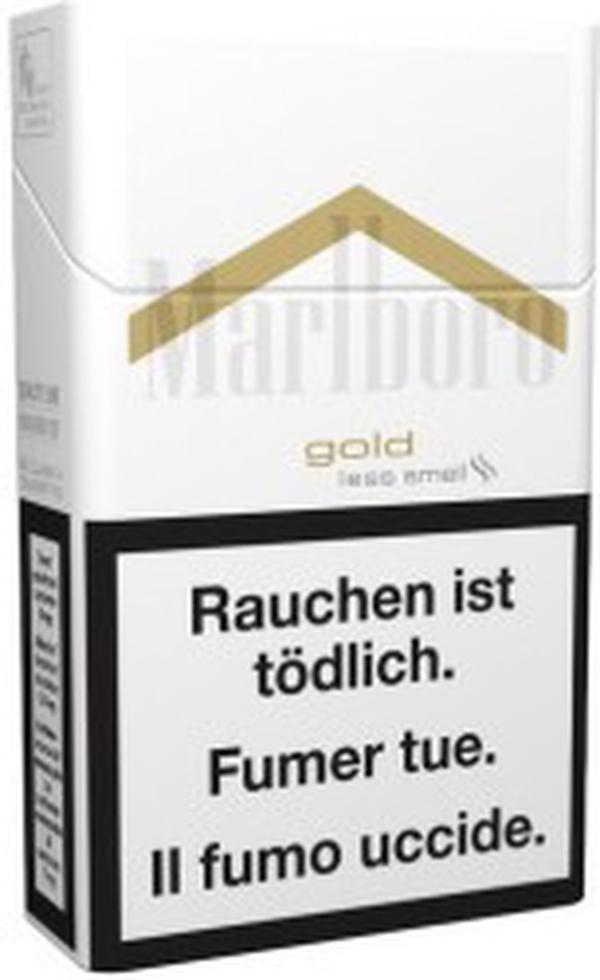marlboro_gold: (74, 15, 582, 899)
